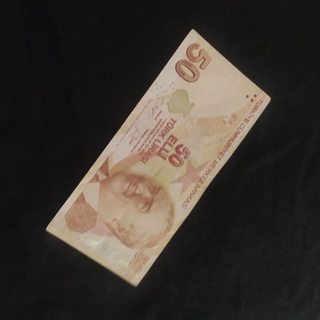50TLFront: (44, 28, 271, 287)
